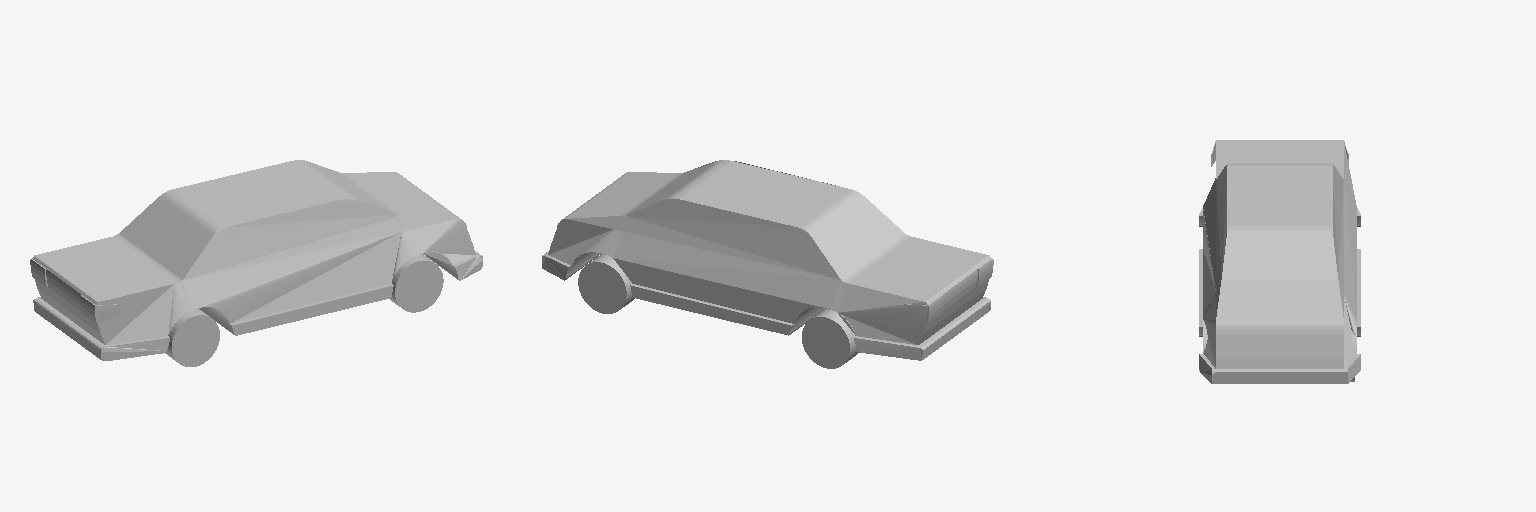
File: Auto2.obj
The picture shows the model from 3 angles: view 1: azimuth 30°, elevation 25°; view 2: azimuth 150°, elevation 25°; view 3: azimuth 270°, elevation 25°; orthographic projection.
Visible parts, largest first — view 1: PKW_1 Karosse_1, PKW_1 Vorderr_der VL, PKW_1 Hinterr_der HL; view 2: PKW_1 Karosse_1, PKW_1 Vorderr_der VR, PKW_1 Hinterr_der HR; view 3: PKW_1 Karosse_1.
Boxes of the visible parts, box(x1,y1,x2,y2) form: PKW_1 Karosse_1: box(30, 160, 482, 360); PKW_1 Vorderr_der VL: box(165, 308, 219, 366); PKW_1 Hinterr_der HL: box(390, 254, 443, 312); PKW_1 Karosse_1: box(542, 160, 993, 360); PKW_1 Vorderr_der VR: box(802, 309, 858, 368); PKW_1 Hinterr_der HR: box(578, 254, 634, 313); PKW_1 Karosse_1: box(1199, 140, 1360, 383).
Bounding box in the file's own units: 633 × 192 × 230.